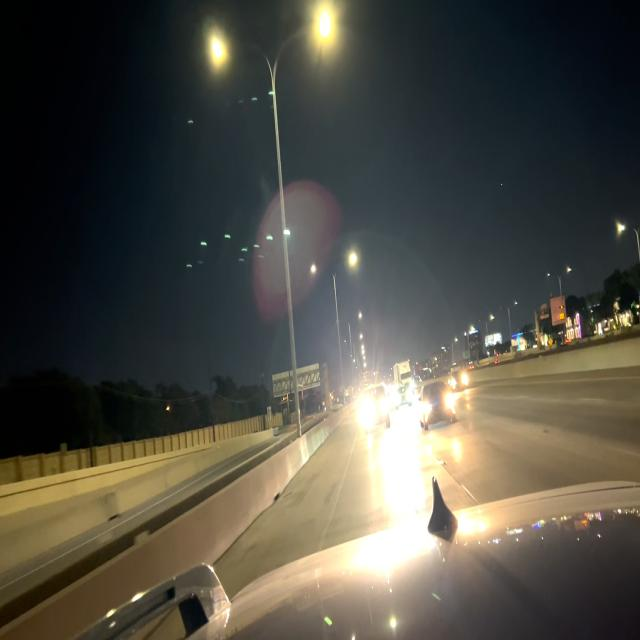back-of-sign: (271, 363, 321, 399)
